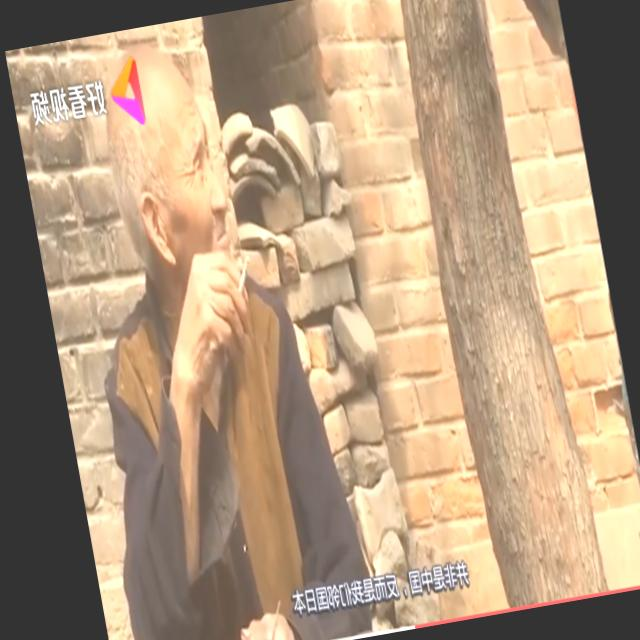cigarette: (228, 252, 255, 298)
